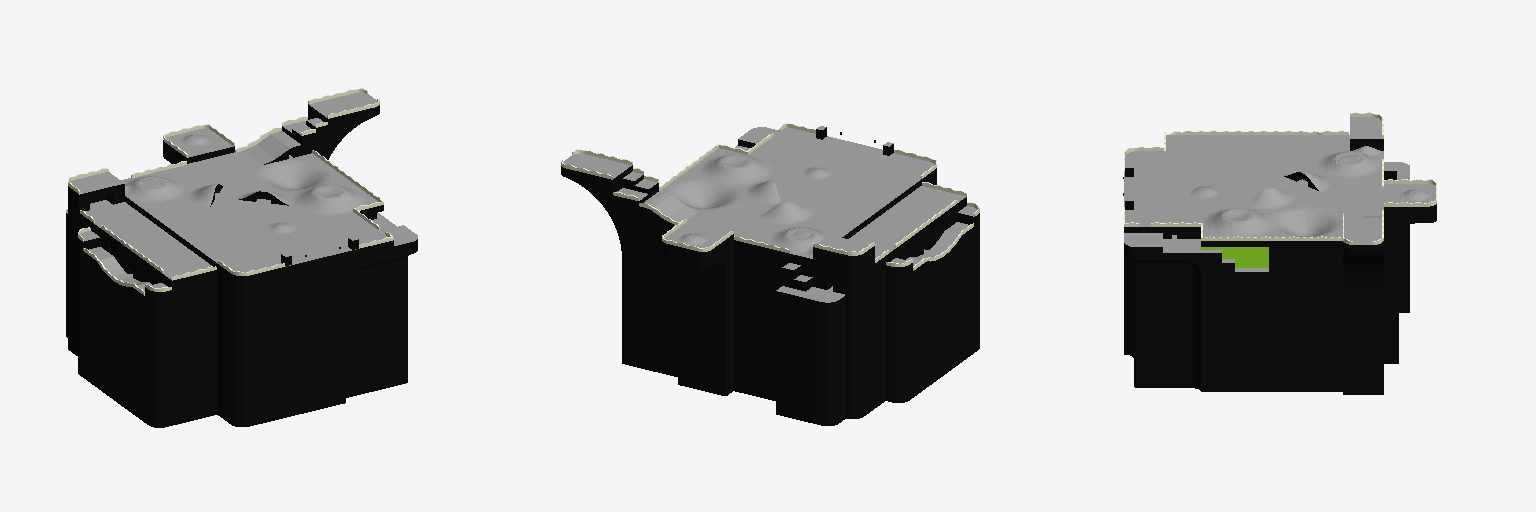
Rendered from CapWorldHomeGround002.obj.obj.
3 views of the same model, side by side, from view 1: azimuth 30°, elevation 25°; view 2: azimuth 150°, elevation 25°; view 3: azimuth 270°, elevation 25° (orthographic).
Bounding box in the file's own units: 10901 × 6090 × 9342.